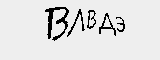В: (44, 5, 71, 45), (86, 7, 99, 30)
Д: (98, 12, 117, 39)
Л: (69, 8, 84, 38)
Э: (115, 12, 127, 34)
